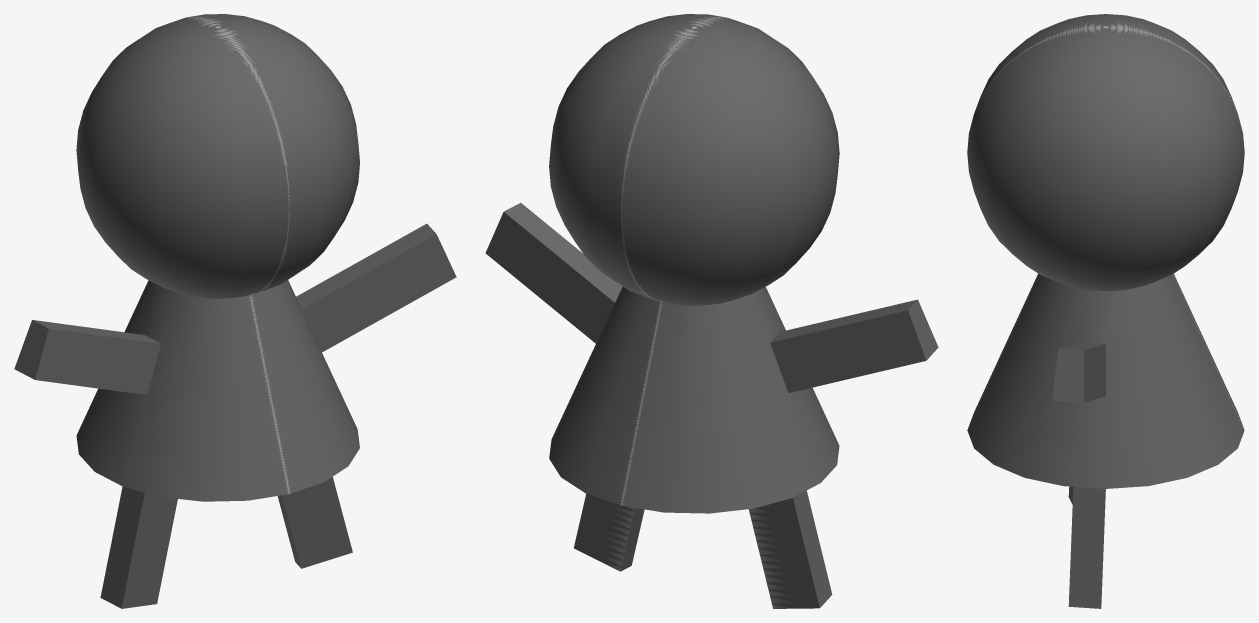
File: testBody.fbx
The picture shows the model from 3 angles, left to right: view 1: azimuth 30°, elevation 25°; view 2: azimuth 150°, elevation 25°; view 3: azimuth 270°, elevation 25°; orthographic projection. The views are drawn at different scales.
Parts seen in each view (by area): view 1: pSphere1; view 2: pSphere1; view 3: pSphere1.
Part boxes in pixels (<box>): pSphere1: <box>14,14,456,608</box>; pSphere1: <box>485,14,938,608</box>; pSphere1: <box>967,14,1244,608</box>.
Bounding box in the file's own units: 15.97 × 19.54 × 9.17.
1 material, 1 textured.
